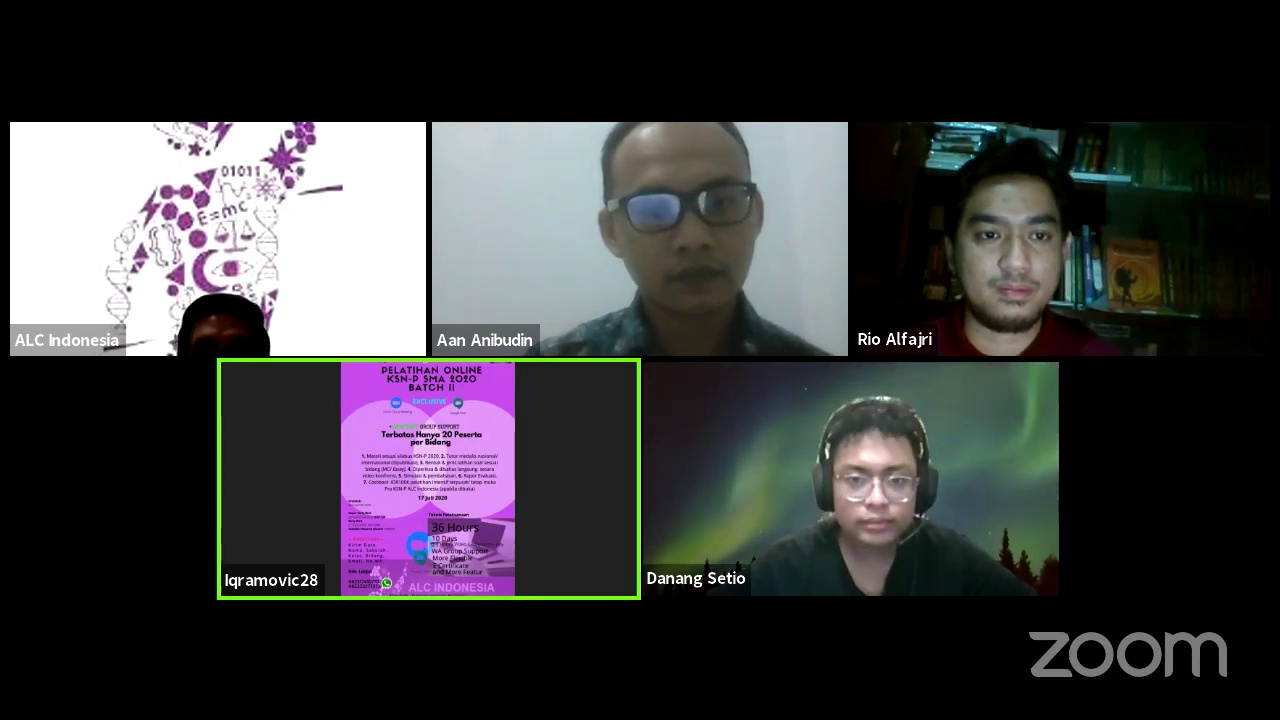Not Distracted: (592, 137, 772, 314), (940, 156, 1090, 329), (806, 407, 945, 561)
